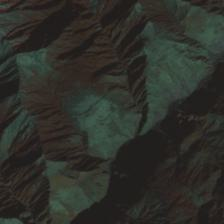landslides: (54, 8, 65, 20), (93, 0, 100, 16), (19, 216, 32, 224)
